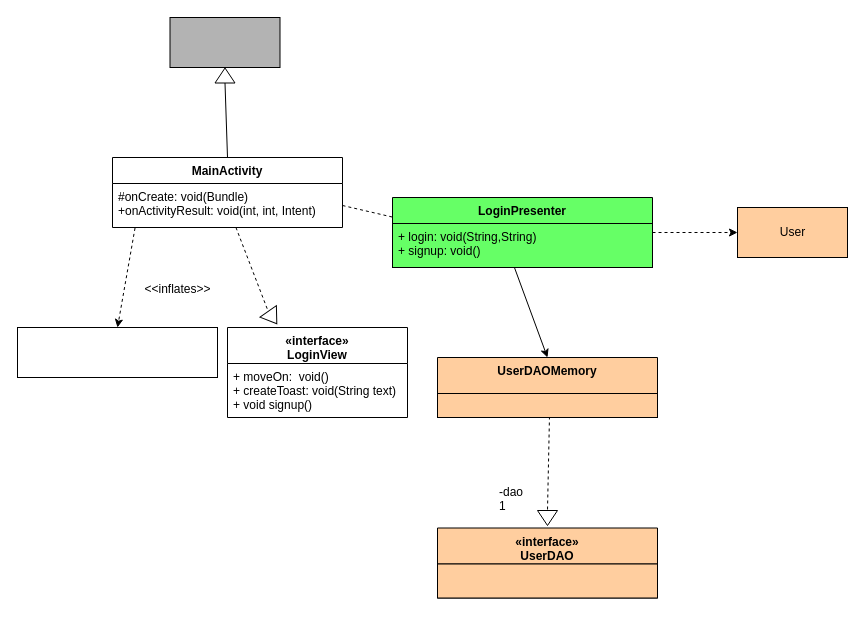
The diagram is 865 pixels wide and 618 high, and some of its shapes have lost their labels. The shapes that lost their labels are listed below. From the top down, each one's centre as x and y in pixels, then its label:
point 224,42: AppCompatActivity
point 117,352: «layout» activity_login.xml
point 547,580: + login: User(String,String)
